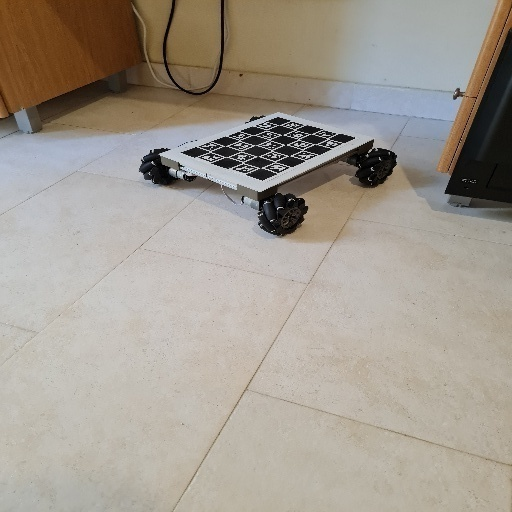Omniwheel: (139, 111, 398, 237)
